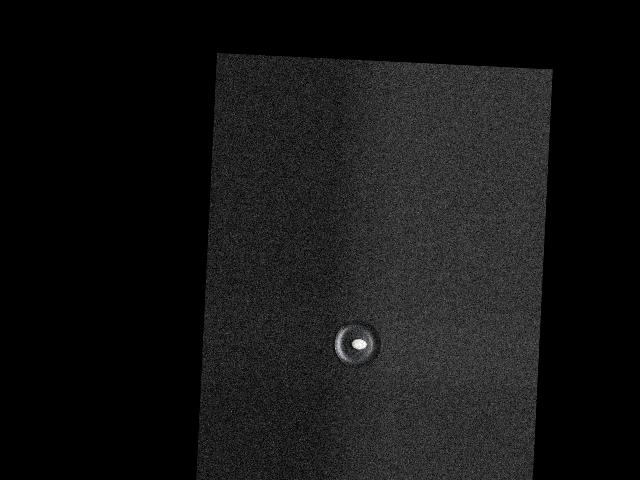egg: (351, 338, 366, 349)
